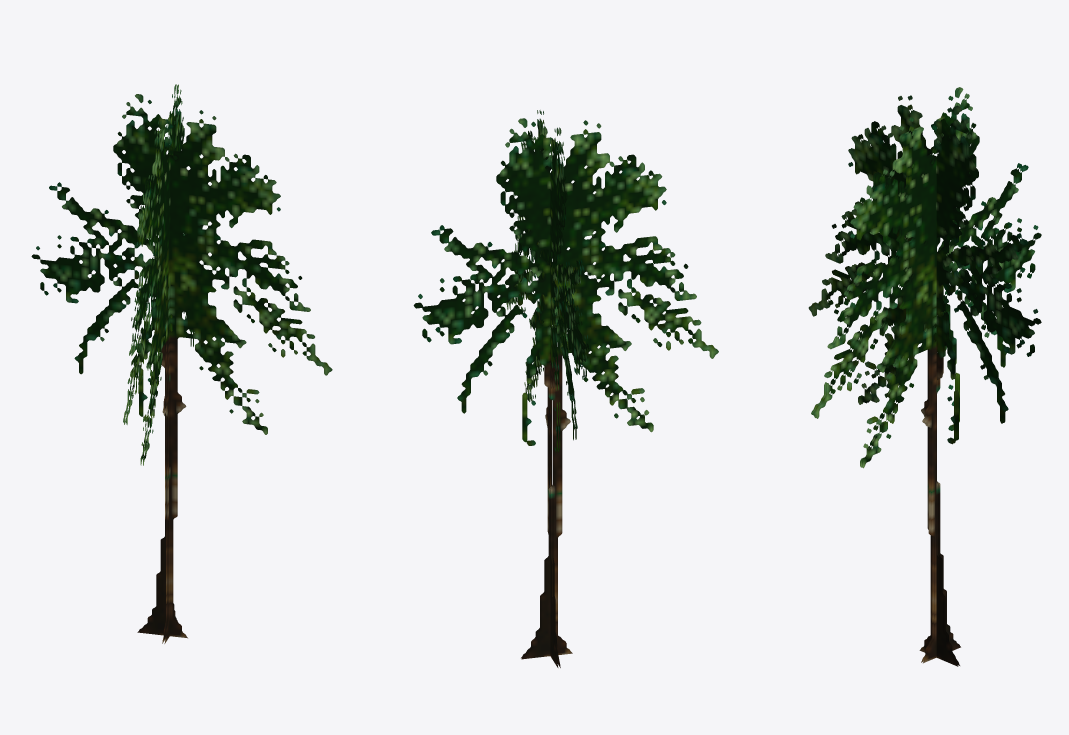
Rendered from tree037.fbx.
The picture shows the model from 3 angles, left to right: view 1: azimuth 30°, elevation 25°; view 2: azimuth 150°, elevation 25°; view 3: azimuth 270°, elevation 25°; orthographic projection. The views are drawn at different scales.
Visible parts, largest first — view 1: tree037; view 2: tree037; view 3: tree037.
Boxes of the visible parts, box(x1,y1,x2,y2) form: tree037: box(31, 84, 332, 643); tree037: box(413, 110, 718, 667); tree037: box(808, 87, 1041, 666).
Size of the model in its own units: 240 by 509 by 214.
Materials: 1 (1 with a texture image).
